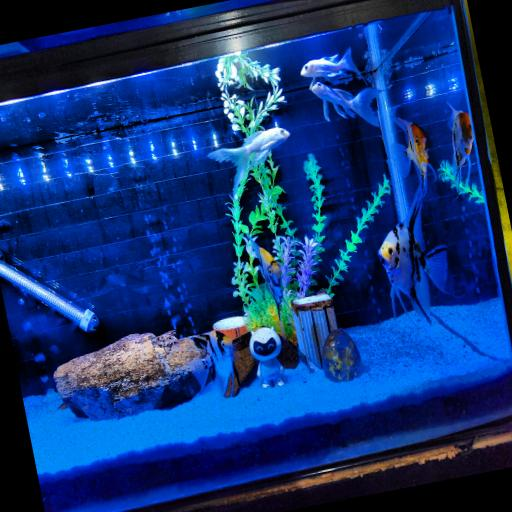Fish: (378, 181, 446, 338), (207, 128, 289, 196), (246, 234, 286, 342), (187, 331, 240, 395), (391, 116, 435, 192), (311, 82, 380, 126), (300, 48, 366, 85), (447, 103, 472, 190)
